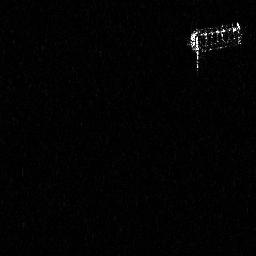ship: (188, 19, 244, 73)
